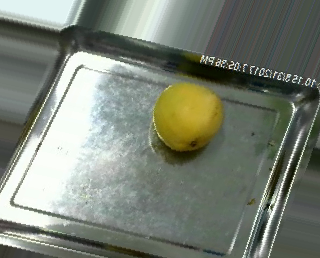Mango: (145, 77, 230, 159)
